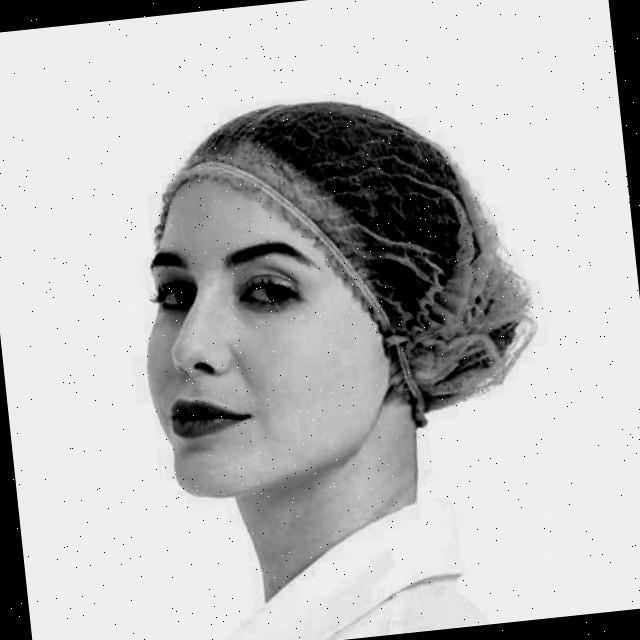gloves: (332, 104, 540, 416)
